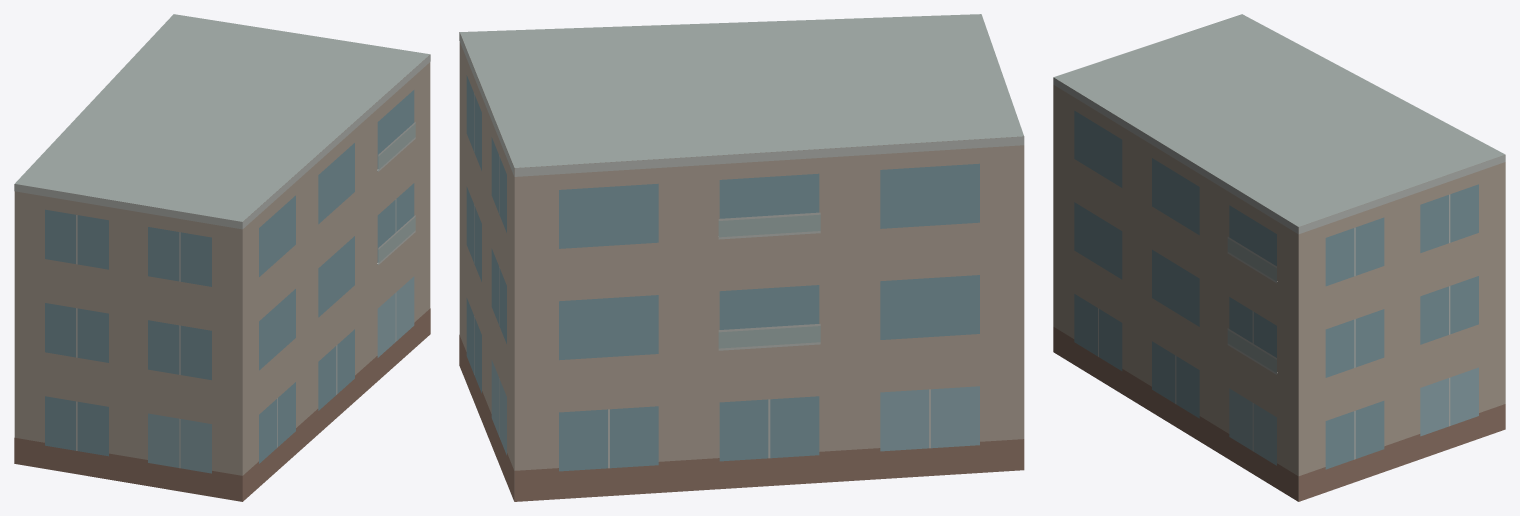
The model's file is survey-upis-32917101.glb.
3 views of the same model, side by side, from view 1: azimuth 30°, elevation 25°; view 2: azimuth 150°, elevation 25°; view 3: azimuth 270°, elevation 25° (orthographic). The views are drawn at different scales.
Visible parts, largest first — view 1: survey-upis-32917101.tmp; view 2: survey-upis-32917101.tmp; view 3: survey-upis-32917101.tmp.
Part boxes in pixels (x1,y1,x2,y2): survey-upis-32917101.tmp: [14, 14, 430, 501]; survey-upis-32917101.tmp: [459, 14, 1024, 501]; survey-upis-32917101.tmp: [1053, 14, 1505, 501].
Size of the model in its own units: 15.22 by 9.15 by 13.65.
